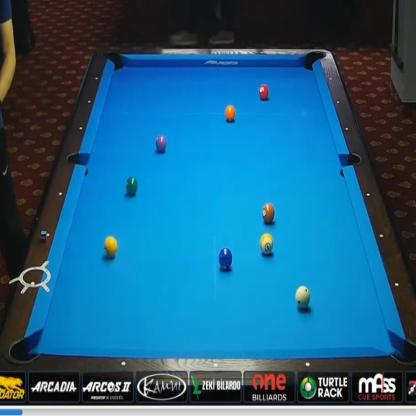Ball: (295, 285, 310, 309), (104, 235, 117, 258), (260, 233, 273, 255), (219, 248, 232, 270), (262, 203, 275, 223), (125, 176, 138, 195), (156, 134, 167, 153), (225, 104, 236, 122), (259, 83, 269, 100)
